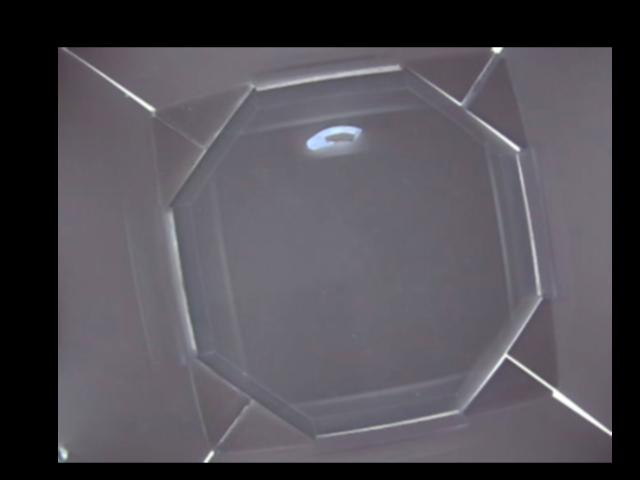China: (303, 123, 360, 156)
